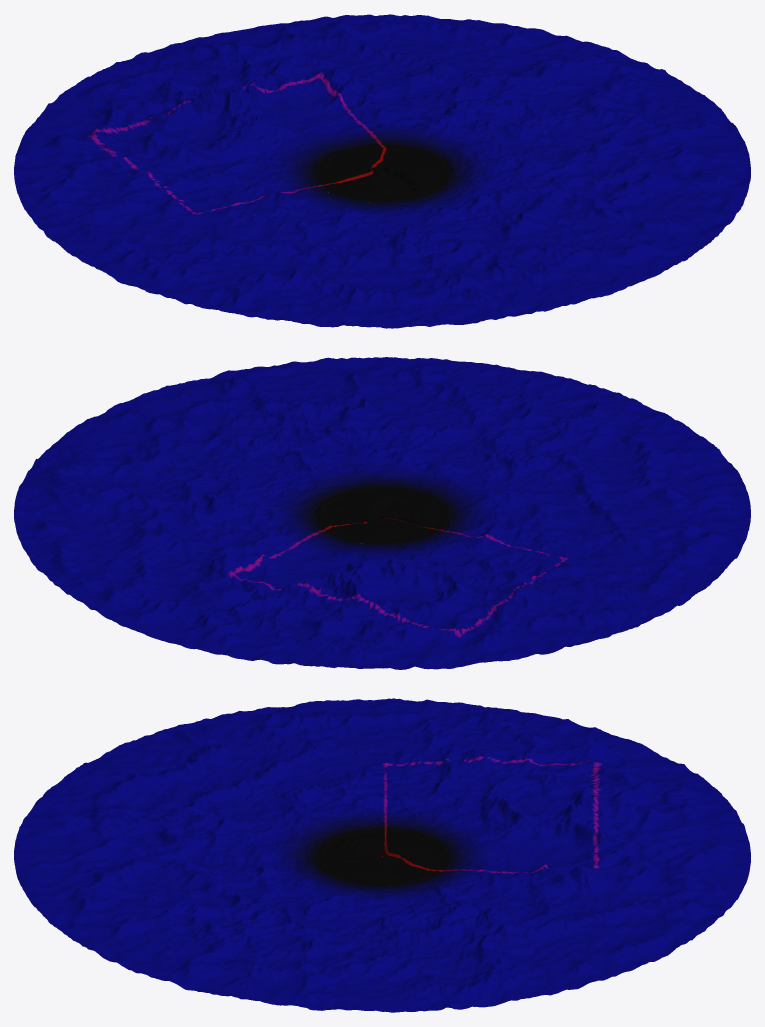
Rendered from terrain.glb.
The picture shows the model from 3 angles, top to bottom: view 1: azimuth 30°, elevation 25°; view 2: azimuth 150°, elevation 25°; view 3: azimuth 270°, elevation 25°; orthographic projection.
Visible parts, largest first — view 1: Terrain_f10, Terrain_f6, Terrain_f7, Terrain_f4, Terrain_f9, Terrain_f8, Terrain_f5, Terrain_f2, Terrain_f3, Terrain_f0, Terrain_f1, Terrain_f11 (+8 smaller); view 2: Terrain_f1, Terrain_f0, Terrain_f11, Terrain_f10, Terrain_f8, Terrain_f9, Terrain_f6, Terrain_f7, Terrain_f3, Terrain_f5, Terrain_f4, Terrain_f2 (+8 smaller); view 3: Terrain_f11, Terrain_f2, Terrain_f3, Terrain_f5, Terrain_f4, Terrain_f0, Terrain_f7, Terrain_f1, Terrain_f8, Terrain_f9, Terrain_f6, Terrain_f10 (+8 smaller).
Boxes of the visible parts, box(x1,y1,x2,y2) form: Terrain_f10: box(14, 93, 320, 172); Terrain_f6: box(381, 199, 565, 328); Terrain_f7: box(197, 198, 384, 327); Terrain_f4: box(444, 165, 750, 248); Terrain_f9: box(14, 164, 320, 248); Terrain_f8: box(64, 187, 346, 306); Terrain_f5: box(418, 187, 700, 305); Terrain_f2: box(417, 35, 700, 157); Terrain_f3: box(444, 94, 750, 174); Terrain_f0: box(200, 14, 384, 147); Terrain_f1: box(381, 14, 564, 146); Terrain_f11: box(63, 37, 346, 157); Terrain_f1: box(14, 502, 320, 590); Terrain_f0: box(63, 529, 346, 649); Terrain_f11: box(197, 542, 384, 668); Terrain_f10: box(381, 540, 565, 669); Terrain_f8: box(444, 505, 750, 590); Terrain_f9: box(418, 529, 701, 646); Terrain_f6: box(418, 378, 701, 499); Terrain_f7: box(444, 436, 750, 514); Terrain_f3: box(63, 380, 345, 499); Terrain_f5: box(380, 357, 567, 489); Terrain_f4: box(198, 357, 383, 488); Terrain_f2: box(14, 436, 320, 515); Terrain_f11: box(443, 776, 750, 857); Terrain_f2: box(381, 883, 566, 1012); Terrain_f3: box(198, 882, 383, 1011); Terrain_f5: box(14, 850, 320, 932); Terrain_f4: box(63, 872, 347, 991); Terrain_f0: box(444, 845, 750, 932); Terrain_f7: box(63, 721, 346, 841); Terrain_f1: box(419, 871, 700, 989); Terrain_f8: box(200, 699, 383, 830); Terrain_f9: box(381, 698, 566, 830); Terrain_f6: box(14, 778, 320, 857); Terrain_f10: box(418, 719, 700, 841).
Bounding box in the file's own units: 10400 × 498 × 10400.
